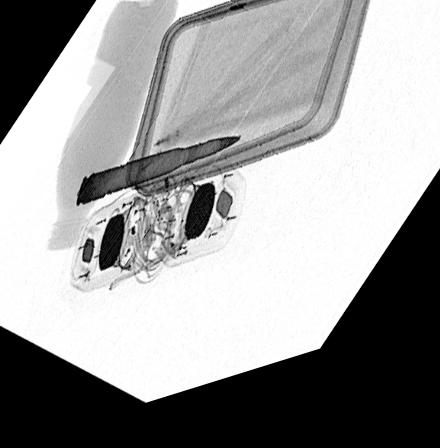Bullet: (73, 149, 242, 212)
